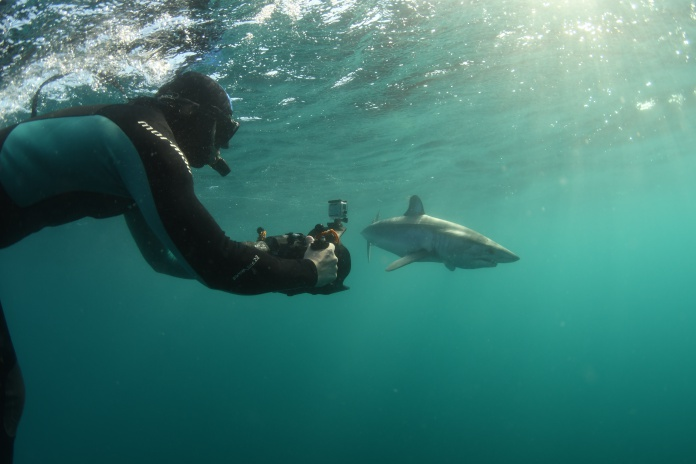Mako: (356, 194, 525, 287)
